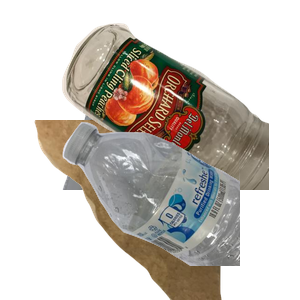glass: (60, 21, 300, 201)
metal: (60, 82, 300, 262)
plastic: (60, 120, 300, 300)
trash: (32, 120, 248, 300)
